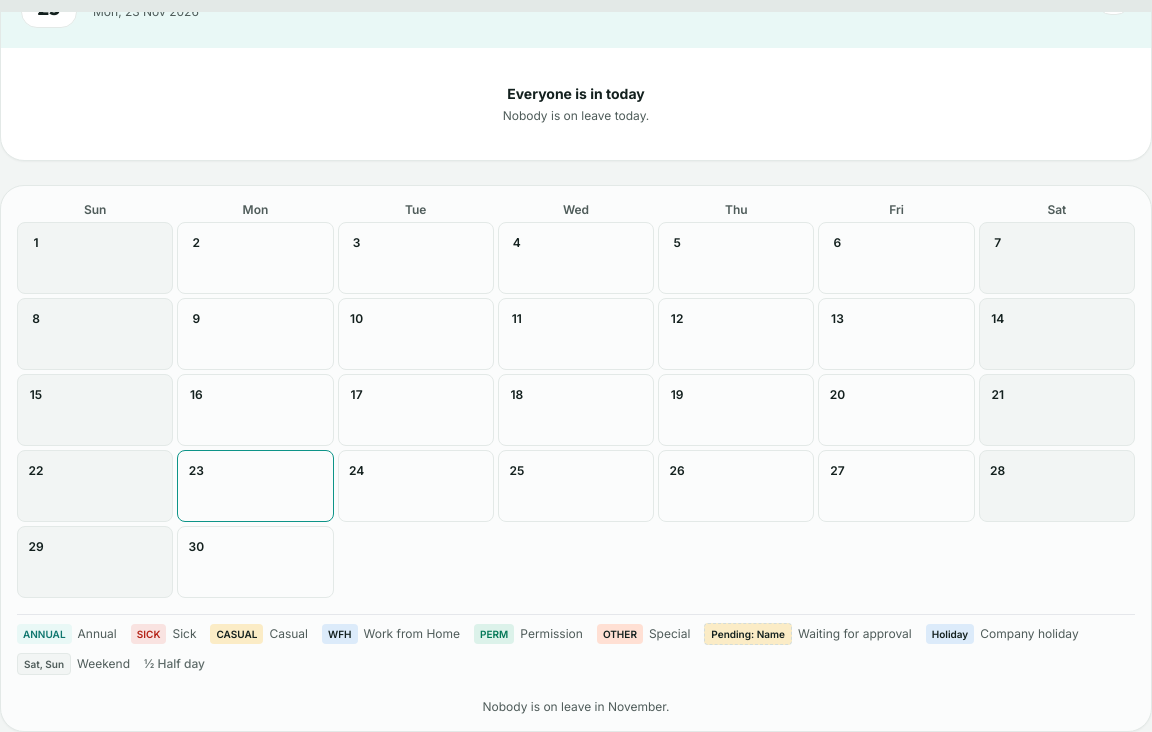
LeaveCalendarView shows real leave for the month it is on › the month grid is meaningful at a glance › says nobody is on leave on an empty day
The width and height of the screenshot is (1152, 732).
(page scrolled)
Click the button named "Details for Wed, 25 Nov 2026" at (517, 471), box x1=505 y1=459 x2=529 y2=483
(page scrolled)
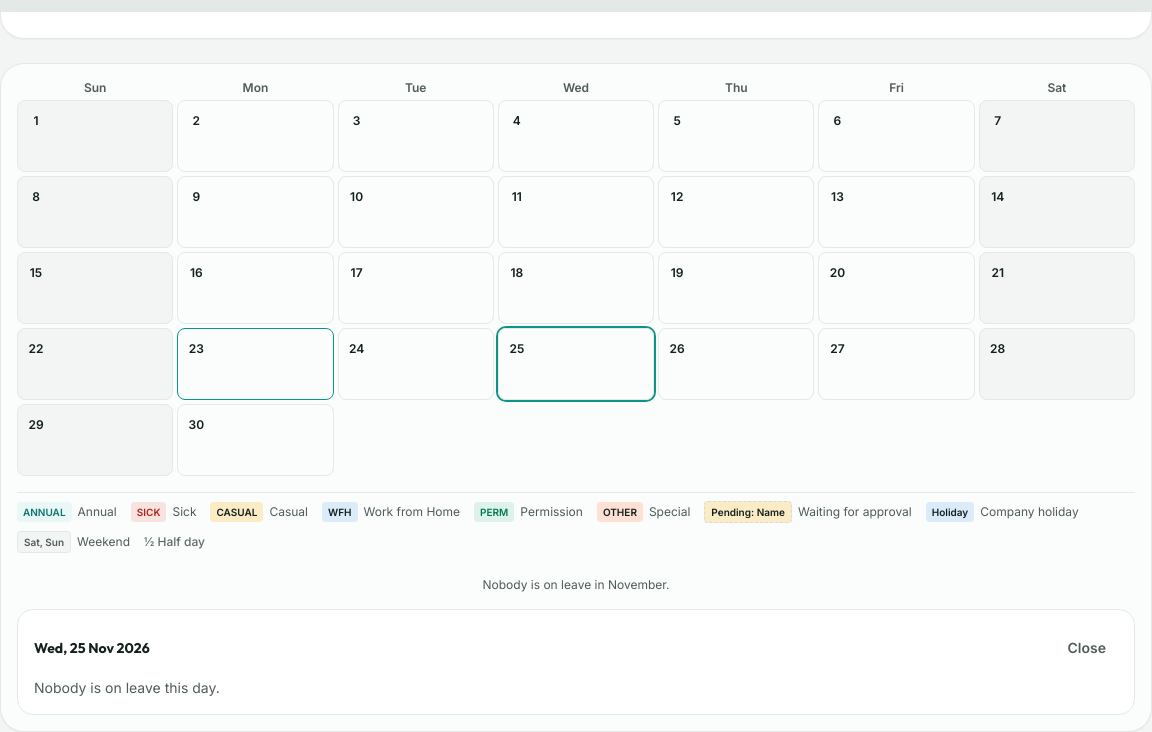
Now the element with test id "leave-day-detail" shows "Nobody is on leave this day.", box x1=34 y1=679 x2=220 y2=696
